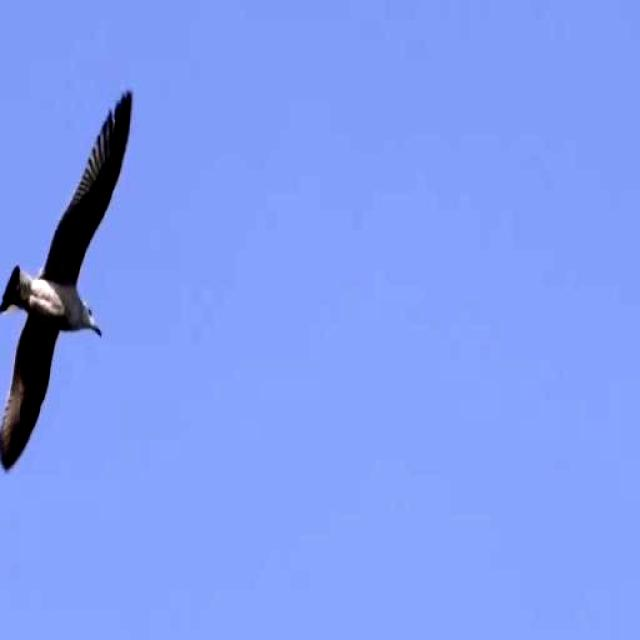airplane: (0, 62, 160, 485)
